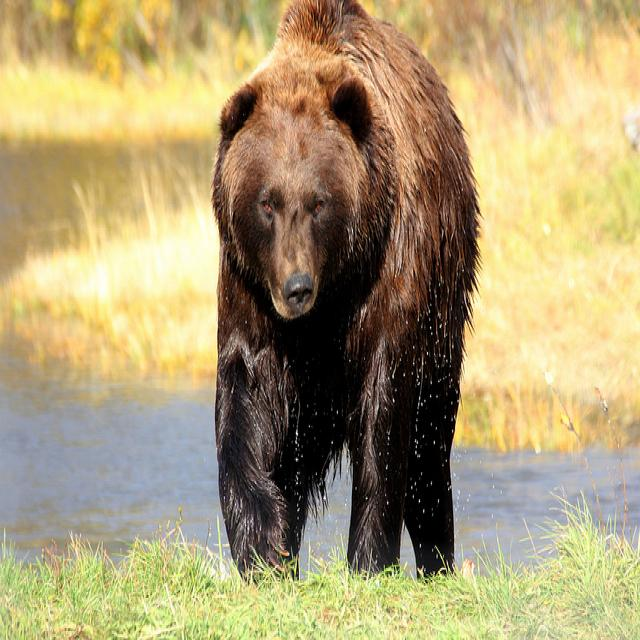Bear: (211, 5, 464, 575)
